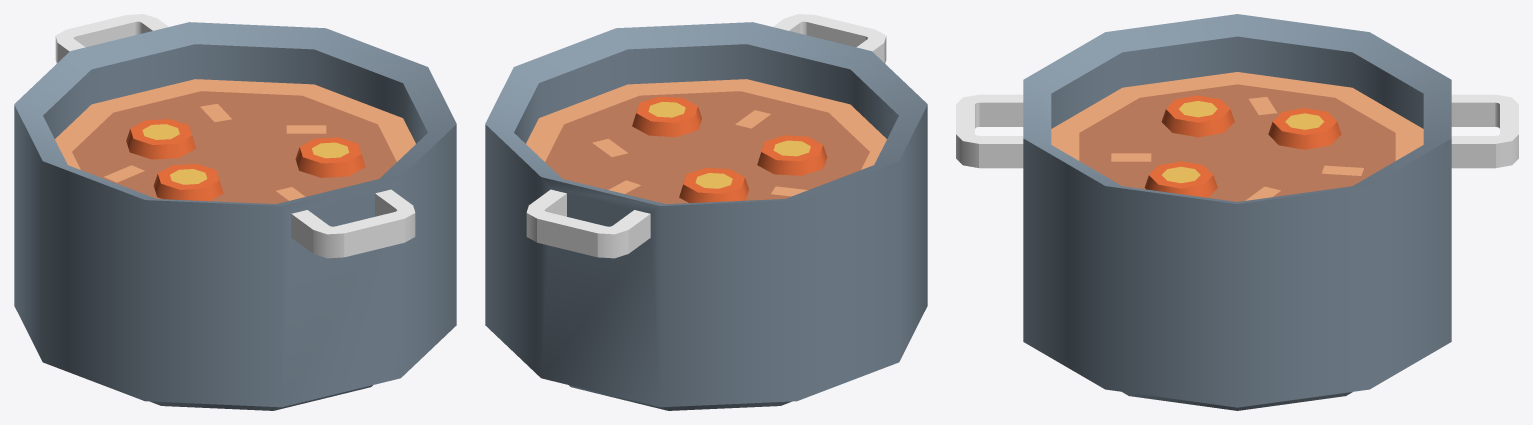
File: Pot Stew.glb
3 renders of one model, left to right at view 1: azimuth 30°, elevation 25°; view 2: azimuth 150°, elevation 25°; view 3: azimuth 270°, elevation 25°, orthographic.
Parts seen in each view (by area): view 1: potStew; view 2: potStew; view 3: potStew.
Boxes of the visible parts, bbox=[...] form: potStew: bbox=[14, 14, 456, 410]; potStew: bbox=[485, 14, 927, 410]; potStew: bbox=[956, 14, 1518, 410].
Bounding box in the file's own units: 0.6574 × 0.3608 × 0.8221.
